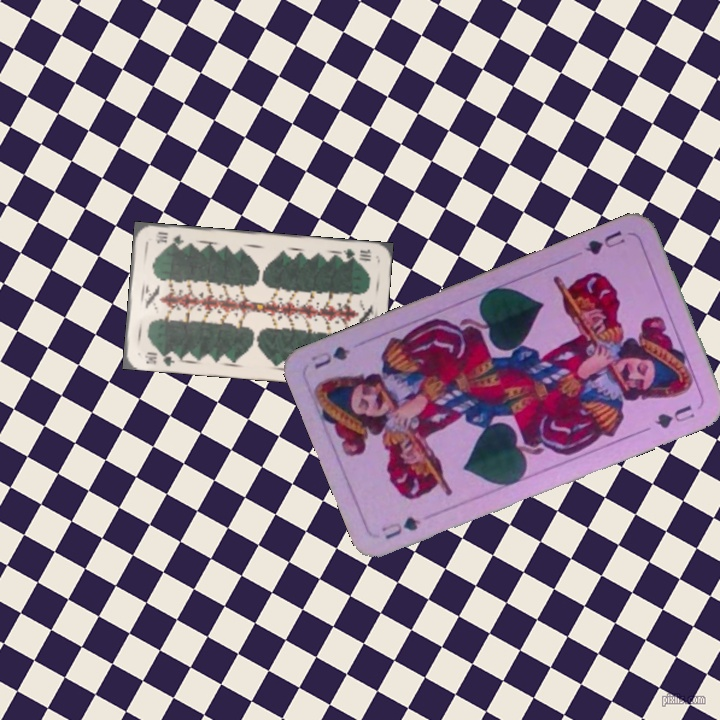G10: (336, 245, 374, 264), (141, 348, 177, 368)
GU: (579, 226, 628, 258), (377, 512, 423, 542)
